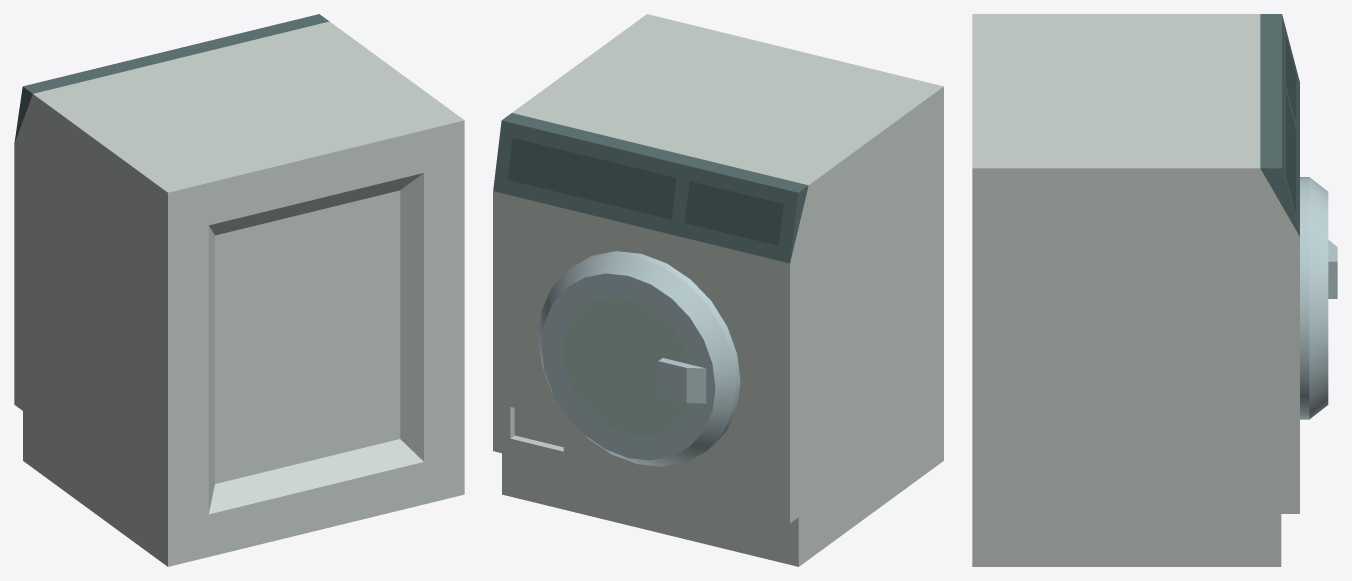
Rendered from washer.obj.
The picture shows the model from 3 angles, left to right: view 1: azimuth 30°, elevation 25°; view 2: azimuth 150°, elevation 25°; view 3: azimuth 270°, elevation 25°; orthographic projection. The views are drawn at different scales.
Parts seen in each view (by area): view 1: washer; view 2: washer, washerDoor; view 3: washer, washerDoor.
Boxes of the visible parts, <box> form: washer: <box>14,14,464,566</box>; washer: <box>493,14,943,566</box>; washerDoor: <box>538,251,740,466</box>; washer: <box>972,14,1299,566</box>; washerDoor: <box>1300,177,1337,419</box>.
Size of the model in its own units: 0.39 by 0.47 by 0.39.
